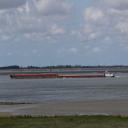tugboat: (103, 70, 118, 80)
